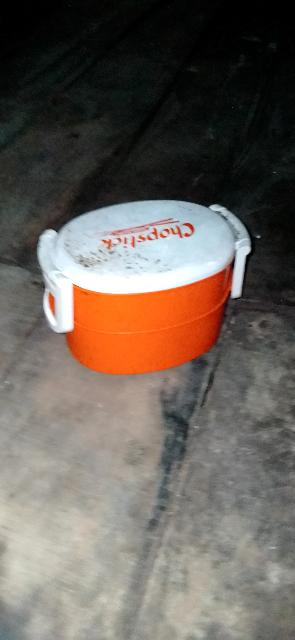hardplastic: (28, 169, 283, 394)
